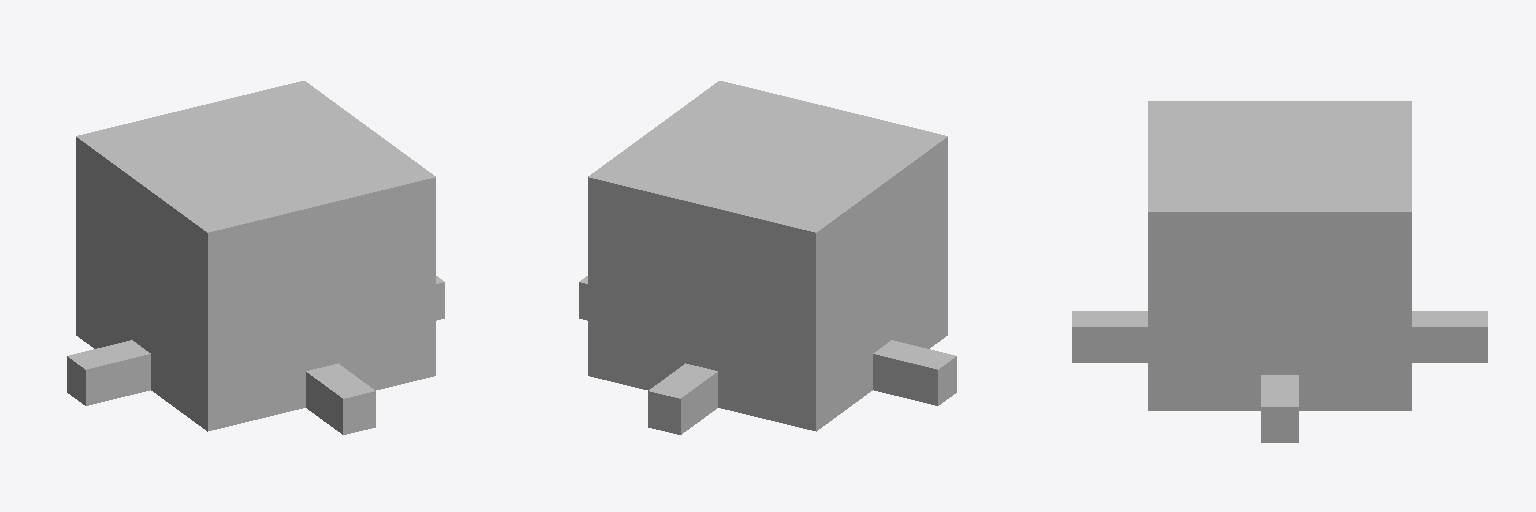
The picture shows the model from 3 angles: view 1: azimuth 30°, elevation 25°; view 2: azimuth 150°, elevation 25°; view 3: azimuth 270°, elevation 25°; orthographic projection.
Parts seen in each view (by area): view 1: Plane; view 2: Plane; view 3: Plane.
Boxes of the visible parts, x1=… form: Plane: x1=67, y1=81, x2=444, y2=434; Plane: x1=579, y1=81, x2=956, y2=434; Plane: x1=1072, y1=101, x2=1487, y2=442.
Bounding box in the file's own units: 0.11 × 0.0581 × 0.11.